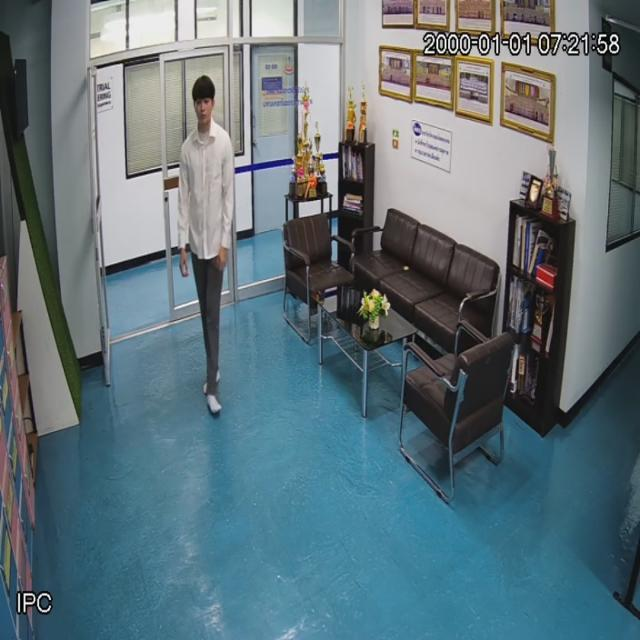normal: (177, 76, 236, 416)
